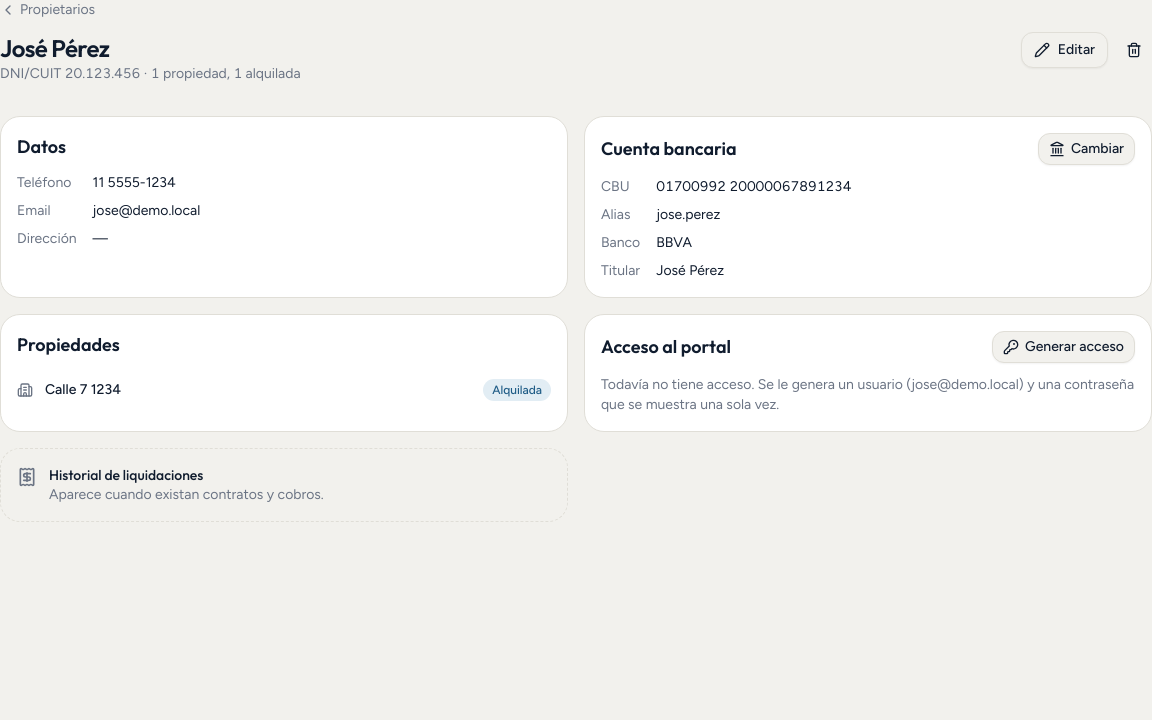
Test: OwnerDetailScreen › genera el acceso y muestra la contraseña una vez
Click the button "Generar acceso" at (1064, 347), box x1=992 y1=331 x2=1135 y2=363
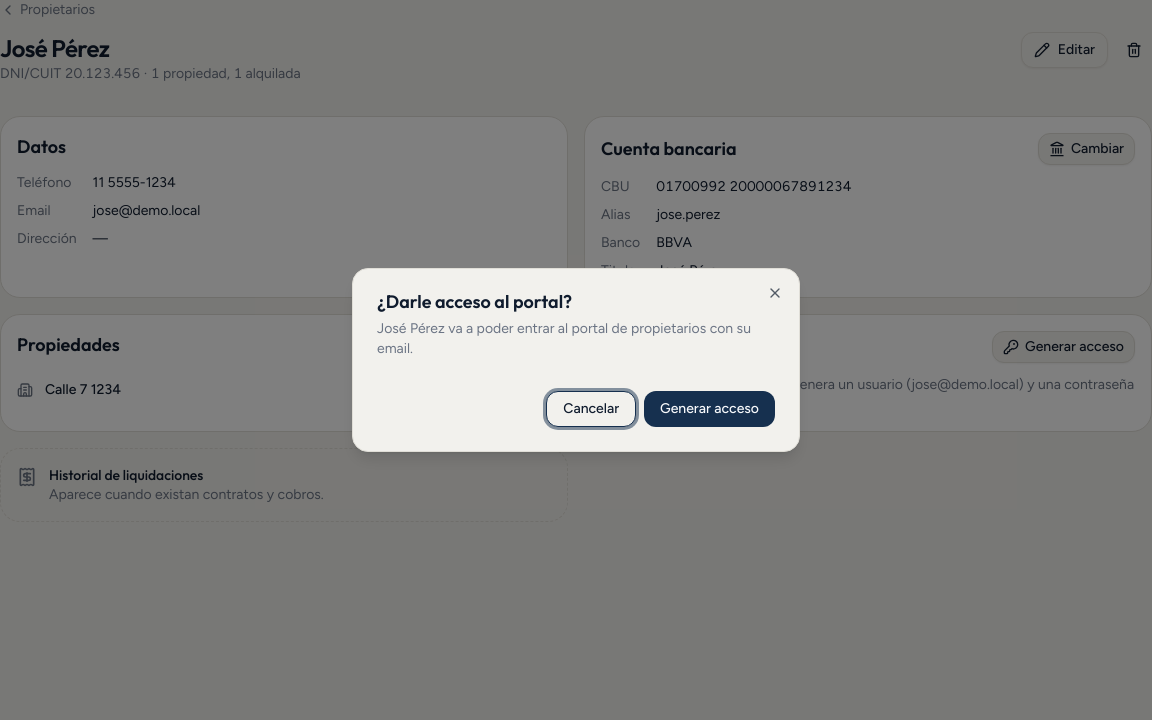
Click the button "Generar acceso" at (710, 409), box x1=644 y1=391 x2=775 y2=427
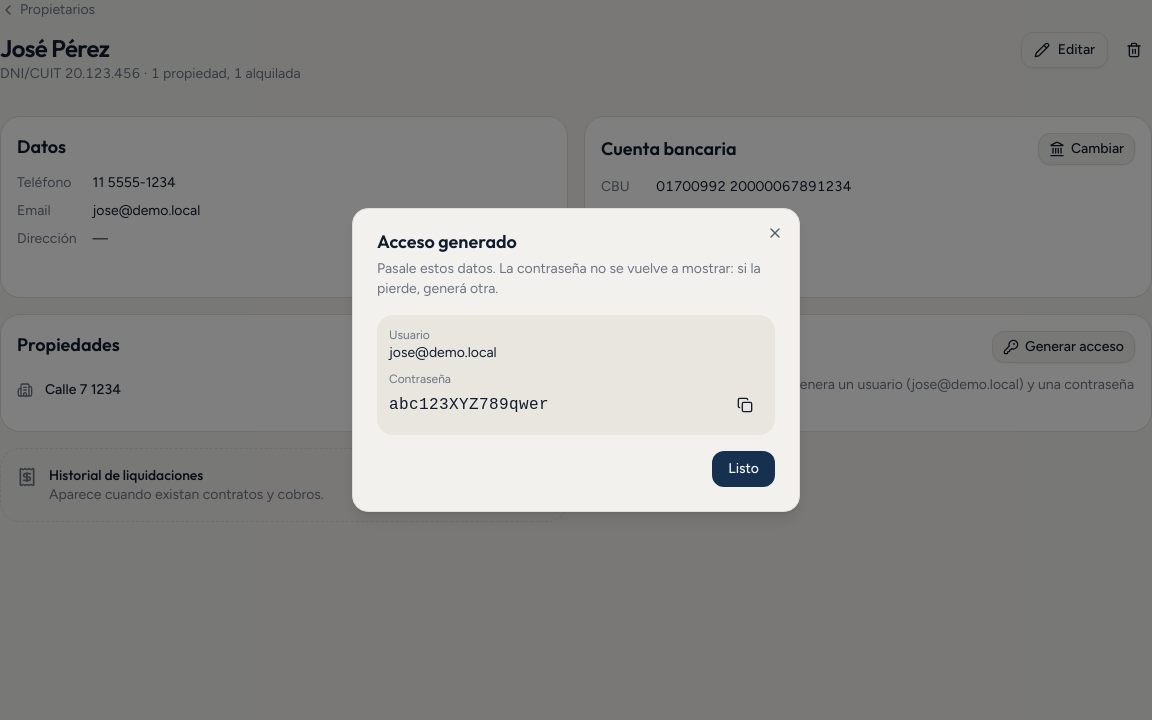
Expected: the text "abc123XYZ789qwer" is shown, x1=389 y1=393 x2=549 y2=417
Expected: the text "no se vuelve a mostrar" is shown, x1=377 y1=260 x2=761 y2=297
